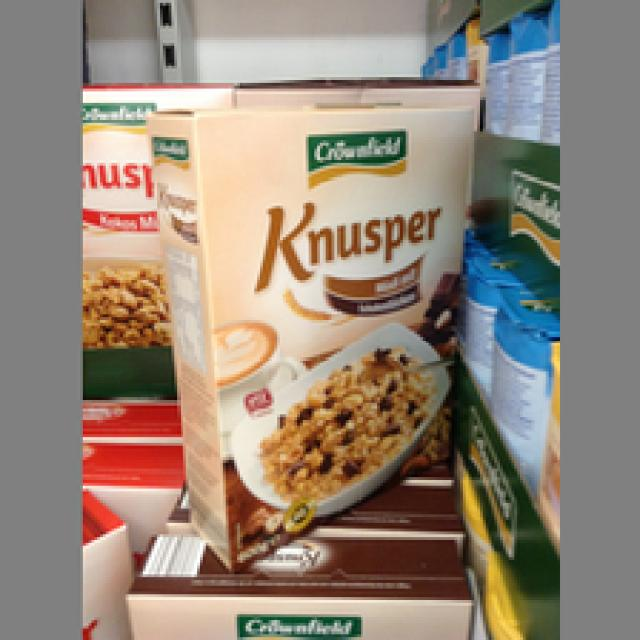groceries: (143, 97, 474, 574)
